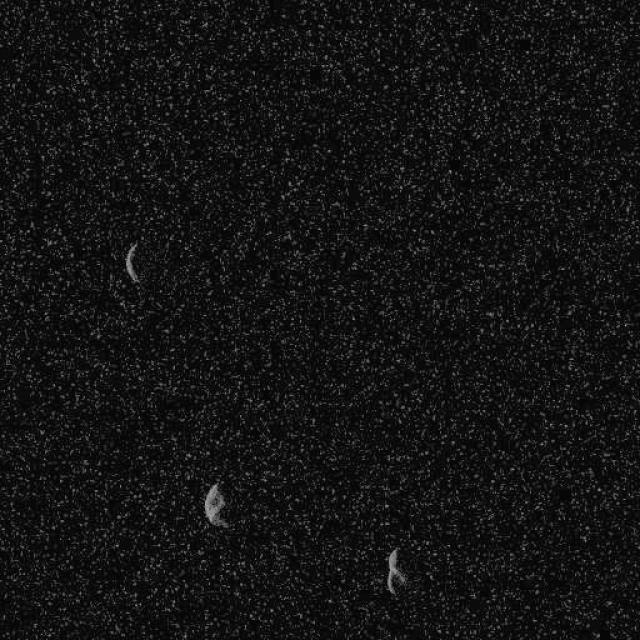D2: (202, 481, 230, 529), (385, 546, 407, 596), (124, 240, 140, 284)
